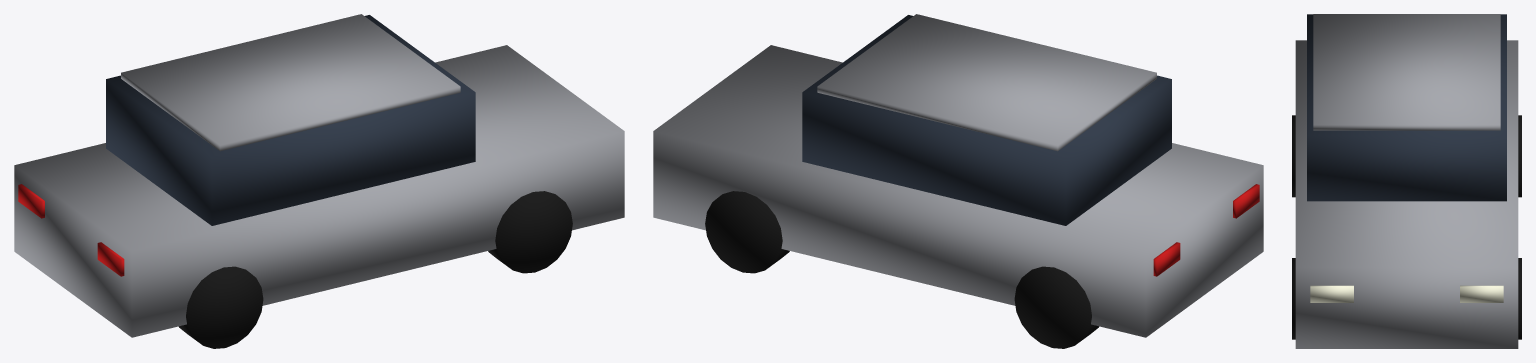
The model's file is traffic_car_silver.dae.
3 views of the same model, side by side, from view 1: azimuth 30°, elevation 25°; view 2: azimuth 150°, elevation 25°; view 3: azimuth 270°, elevation 25° (orthographic). The views are drawn at different scales.
Visible parts, largest first — view 1: node0, node1, node2, node3, node5, node8, node10; view 2: node0, node1, node2, node4, node6, node10, node8; view 3: node0, node2, node1, node7, node9, node3, node4, node5, node6.
Part boxes in pixels (x1,y1,x2,y2): node0: (14,45,624,337); node1: (106,15,475,225); node2: (121,14,460,151); node3: (178,266,263,348); node5: (488,191,572,273); node8: (97,242,124,276); node10: (18,184,44,218); node0: (653,45,1263,337); node1: (802,15,1171,225); node2: (817,14,1156,151); node4: (1014,266,1099,348); node6: (705,191,789,273); node10: (1153,242,1180,276); node8: (1233,184,1259,218); node0: (1295,40,1518,348); node2: (1313,14,1500,130); node1: (1307,14,1506,201); node7: (1310,285,1353,302); node9: (1460,285,1503,302); node3: (1292,115,1295,197); node4: (1518,115,1521,197); node5: (1292,258,1295,339); node6: (1518,258,1521,339).
Bounding box in the file's own units: 4.36 × 1.84 × 1.61.
